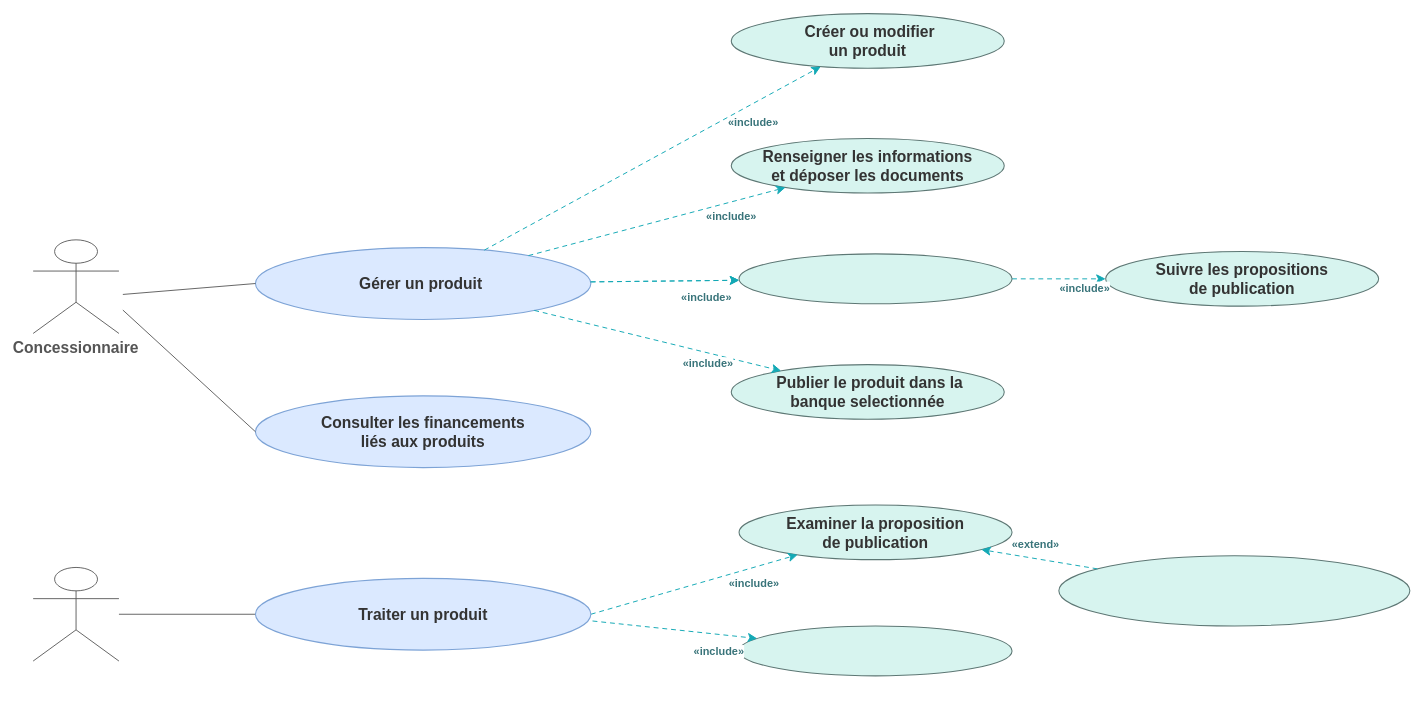
The diagram is 1424 pixels wide and 718 high, and some of its shapes have lost their labels. Here are the shapes that lost their labels. From the top down, the centre of each, then its label:
At point (875, 278): "Renseigner le stock".
At point (1234, 590): "Refuser la publication et préciser le motif [proposition refusée]".
At point (75, 614): "Administrateur Banque".
At point (875, 650): "Approuver la publication".
